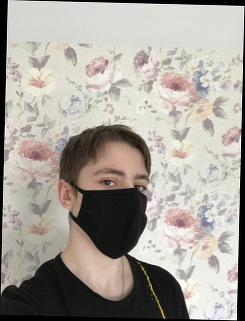with_mask: (76, 158, 152, 260)
